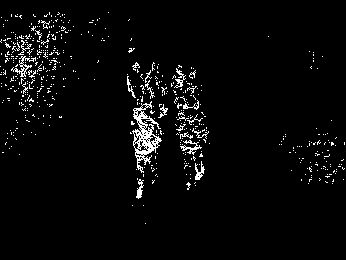person: (173, 96, 209, 193), (129, 102, 162, 198), (142, 59, 169, 118), (124, 61, 146, 104), (169, 64, 189, 104), (182, 66, 203, 102)
